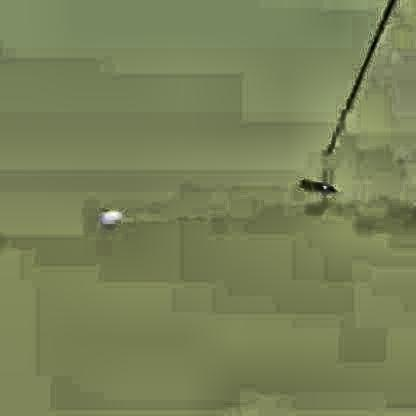golfball: (97, 207, 120, 227)
